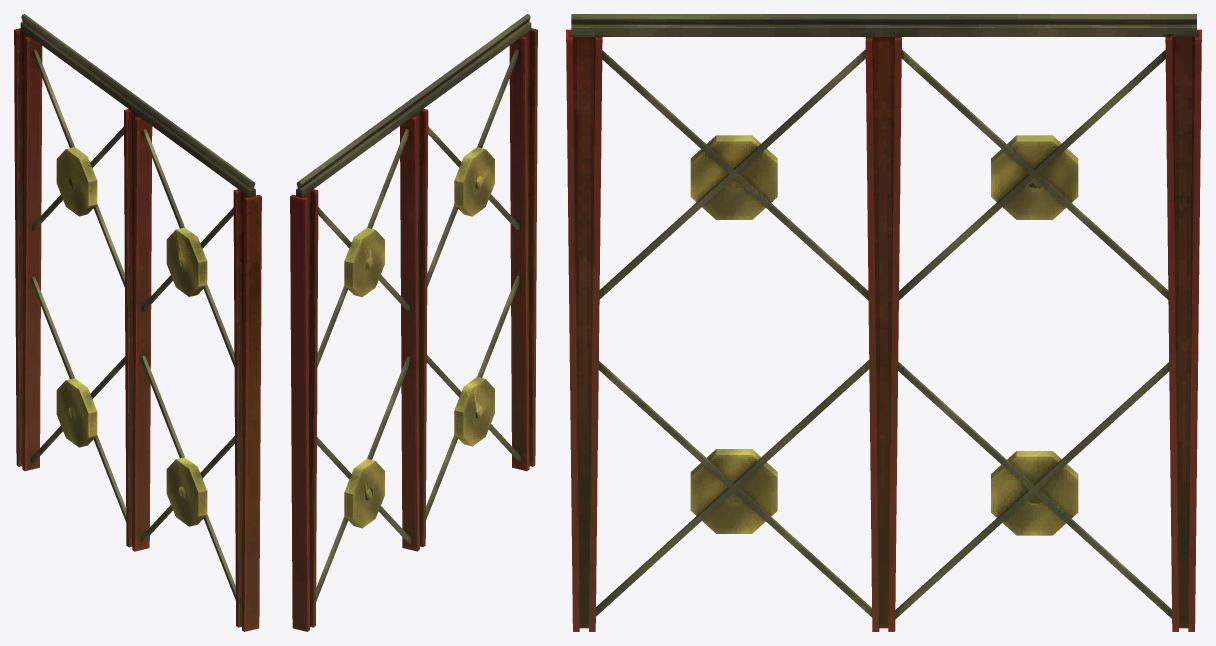
The model's file is item_steampunk_scaffolding.glb.
3 renders of one model, left to right at view 1: azimuth 30°, elevation 25°; view 2: azimuth 150°, elevation 25°; view 3: azimuth 270°, elevation 25°, orthographic. The views are drawn at different scales.
Parts seen in each view (by area): view 1: scaffolding; view 2: scaffolding; view 3: scaffolding.
Part boxes in pixels (x1,y1,x2,y2): scaffolding: (14,14,261,631); scaffolding: (290,14,537,631); scaffolding: (566,14,1201,631).
Size of the model in its own units: 0.0767 by 1.84 by 1.73.
Materials: 1 (1 with a texture image).
